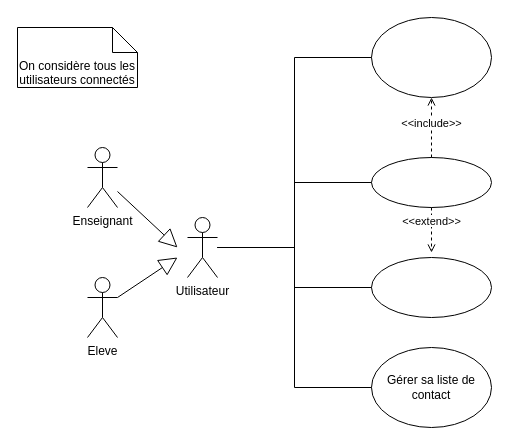
Some shapes in this 509 by 445 pixel diagram are drawn without their labels. Each missing label, with the centre of its shape:
Consulter l'historique d'une discussion: the point at 431,57
Consulter le statut d'un message: the point at 431,287
Envoyer un message: the point at 431,182
